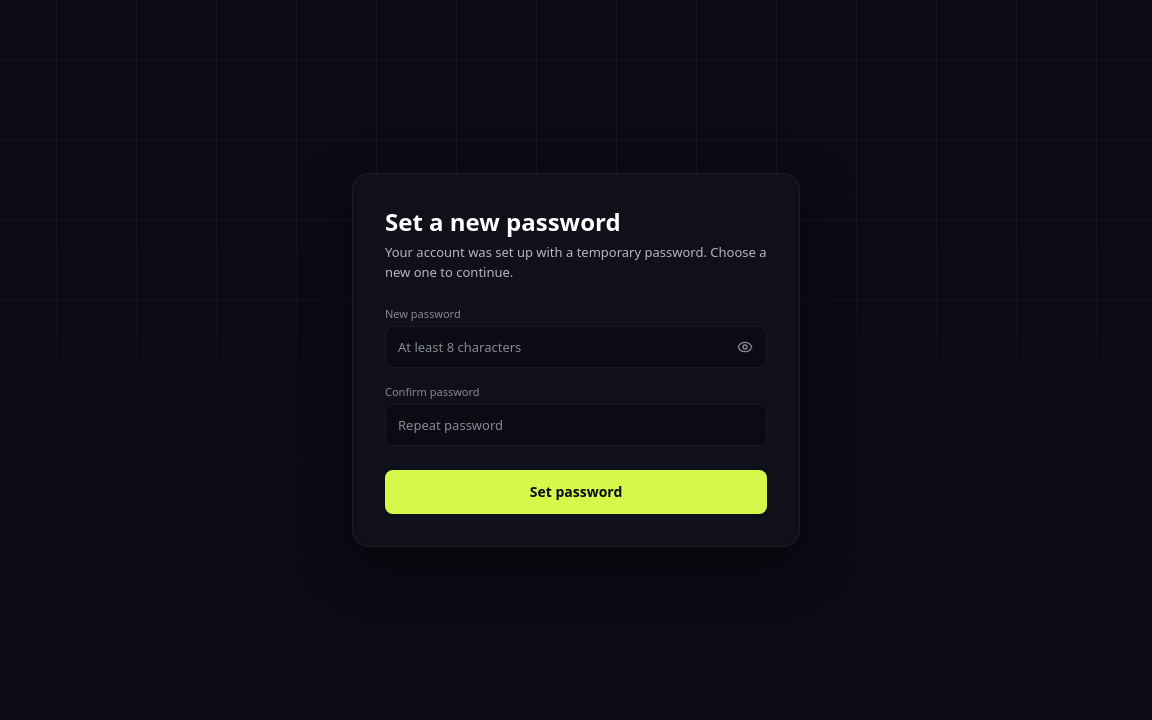
it: ForcePasswordChangePage › shows error for too-short password
Type "short" into the password field labelled "New password". click: [576, 347]
box: [385,326,767,368]
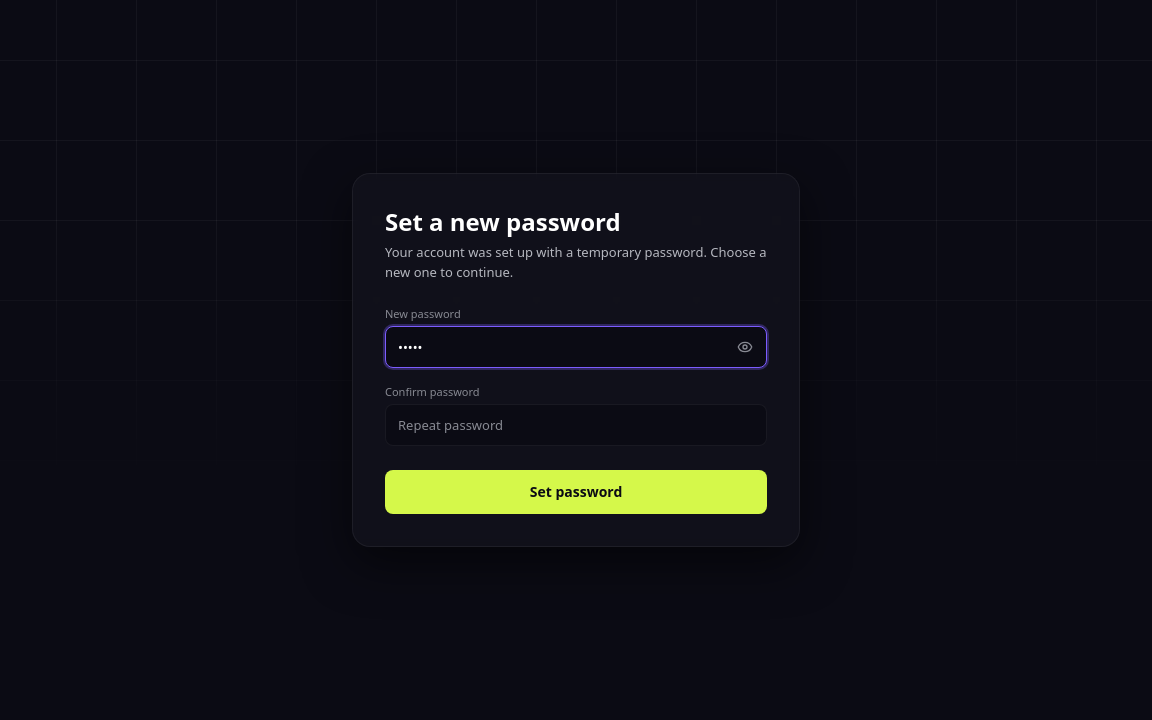
Type "short" into the password field labelled "Confirm password". click: [576, 425]
box: [385,404,767,446]
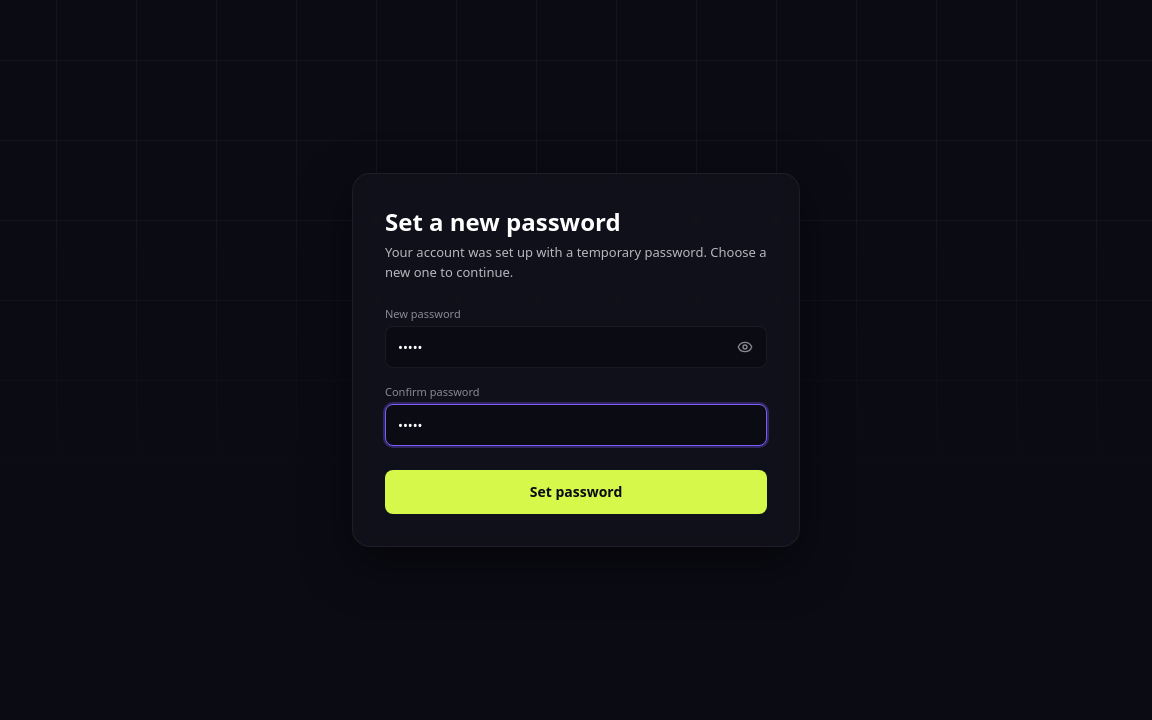
Click the button "Set password". click: [576, 492]
box: [385,470,767,514]
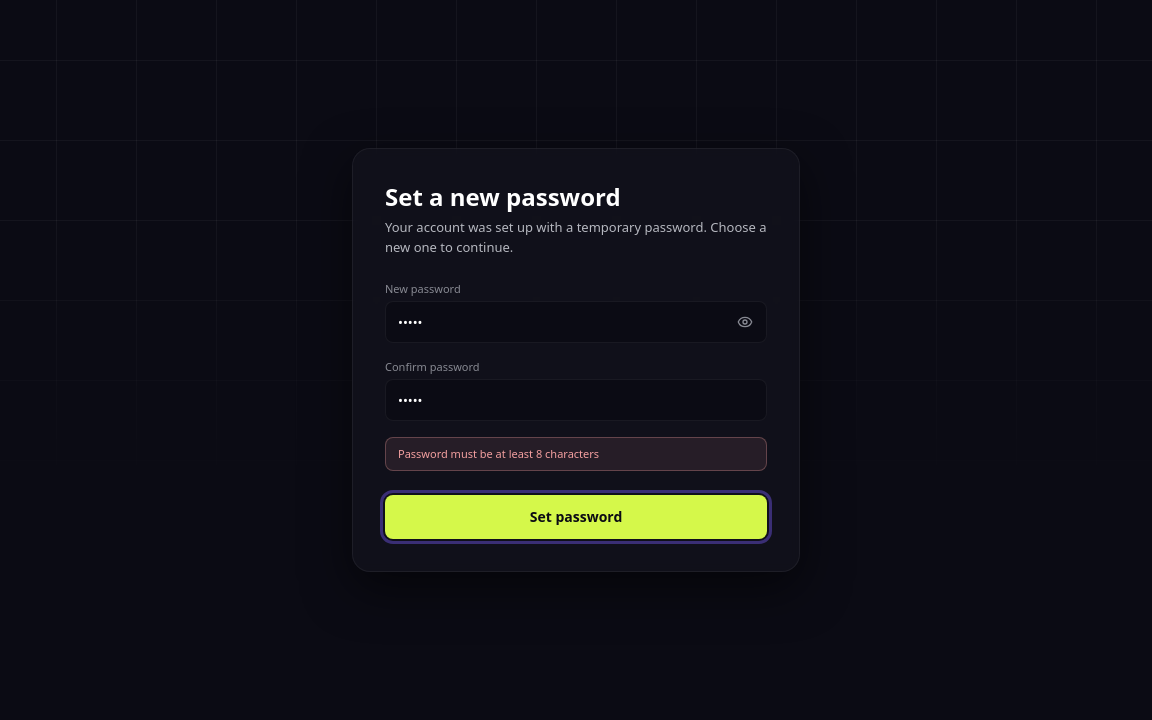
Now the message shows "at least 8", box [398,446,599,461]
